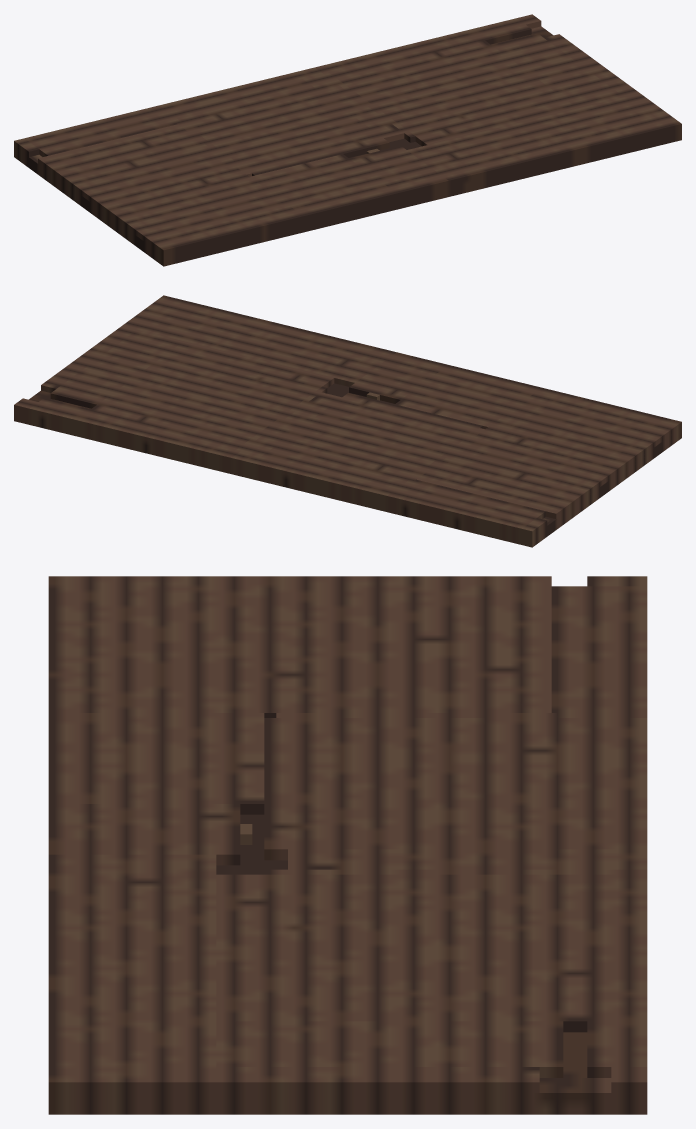
Rendered from Wall_B-1_00.fbx.
3 views of the same model, one above another, from view 1: azimuth 30°, elevation 25°; view 2: azimuth 150°, elevation 25°; view 3: azimuth 270°, elevation 25° (orthographic). The views are drawn at different scales.
Visible parts, largest first — view 1: Wall_B-1_00; view 2: Wall_B-1_00; view 3: Wall_B-1_00.
Part boxes in pixels (left/top/right/bottom): Wall_B-1_00: left=14, top=14, right=681, bottom=266; Wall_B-1_00: left=14, top=295, right=681, bottom=547; Wall_B-1_00: left=48, top=576, right=647, bottom=1114.
Size of the model in its own units: 500 by 15 by 250.
